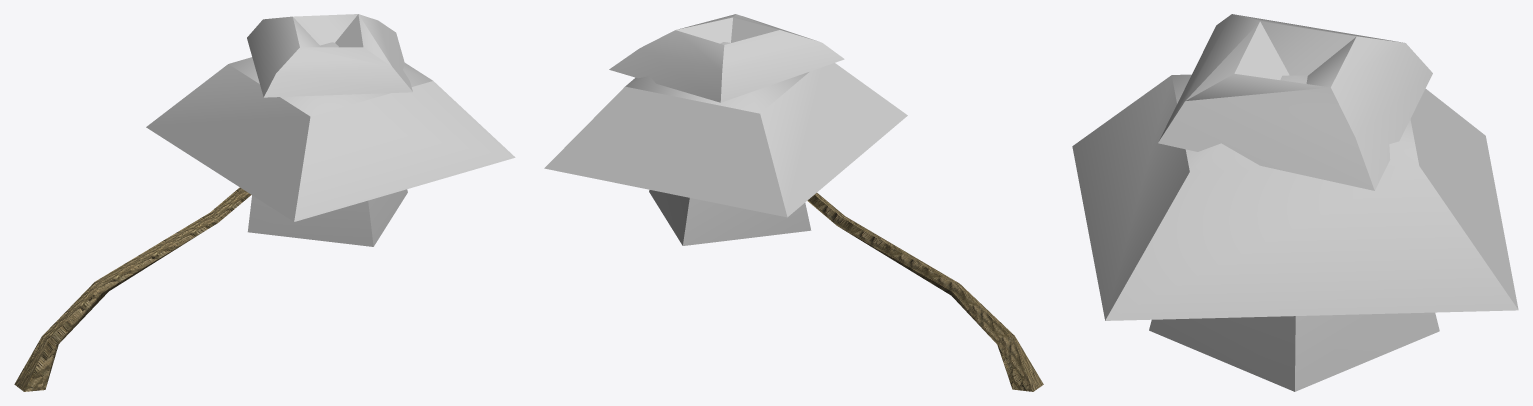
File: bowlpalm1.FBX
The picture shows the model from 3 angles, left to right: view 1: azimuth 30°, elevation 25°; view 2: azimuth 150°, elevation 25°; view 3: azimuth 270°, elevation 25°; orthographic projection. The views are drawn at different scales.
Parts seen in each view (by area): view 1: Leaves__2, Trunk; view 2: Leaves__2, Trunk; view 3: Leaves__2.
Boxes of the visible parts, x1,y1,x2,y2 form: Leaves__2: [146, 14, 515, 246]; Trunk: [14, 187, 251, 391]; Leaves__2: [544, 14, 907, 245]; Trunk: [807, 193, 1043, 391]; Leaves__2: [1072, 14, 1518, 391].
Bounding box in the file's own units: 48.79 × 30.6 × 28.15.
